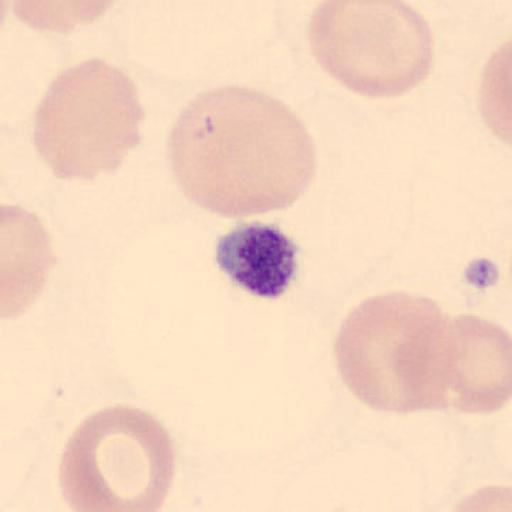Platelet: (212, 218, 303, 301)
RBC: (166, 83, 318, 219), (333, 287, 462, 417), (32, 57, 146, 183), (306, 0, 436, 102), (57, 403, 178, 512), (441, 311, 512, 415), (2, 202, 58, 324), (476, 37, 512, 148), (6, 0, 120, 35), (446, 482, 511, 512)
